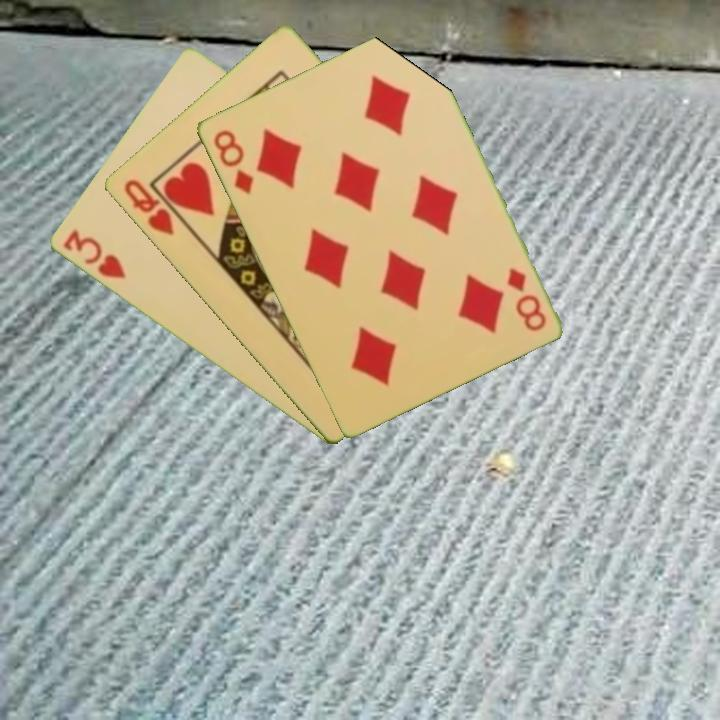3h: (59, 226, 129, 282)
8d: (209, 126, 256, 198), (503, 263, 549, 334)
Qh: (120, 175, 177, 238)
